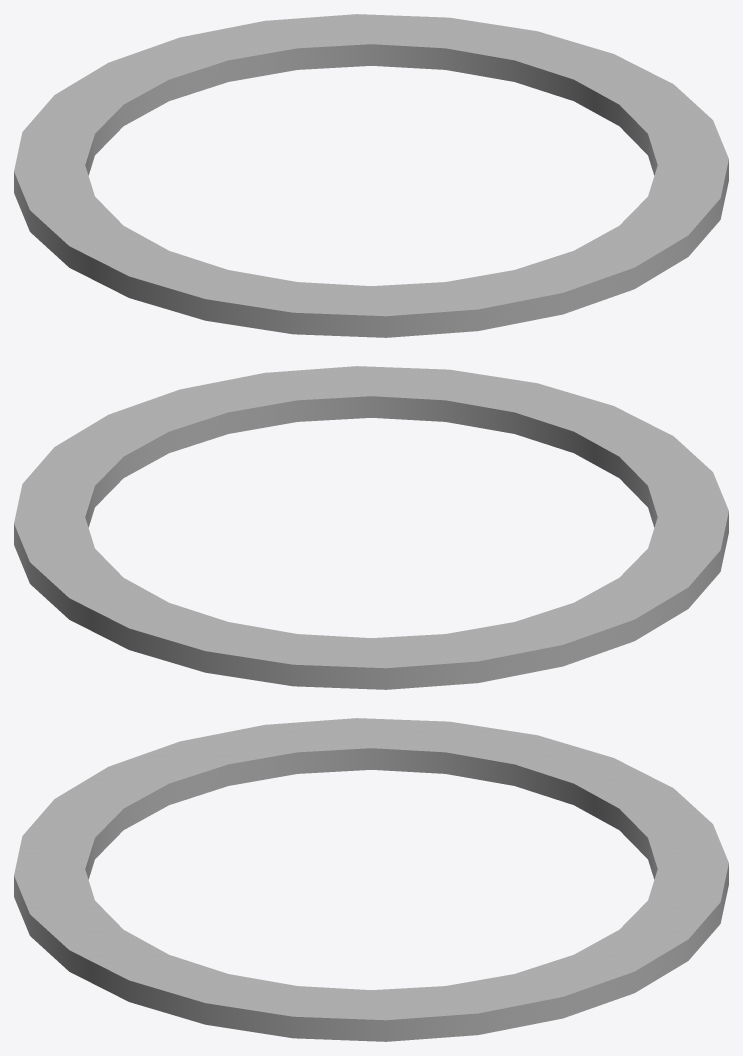
The model's file is Ring.fbx.
3 views of the same model, one above another, from view 1: azimuth 30°, elevation 25°; view 2: azimuth 150°, elevation 25°; view 3: azimuth 270°, elevation 25° (orthographic).
Visible parts, largest first — view 1: Model; view 2: Model; view 3: Model.
Part boxes in pixels (x1,y1,x2,y2): Model: (14, 14, 728, 337); Model: (14, 366, 728, 689); Model: (14, 718, 728, 1041).
Size of the model in its own units: 176 by 5.87 by 176.
